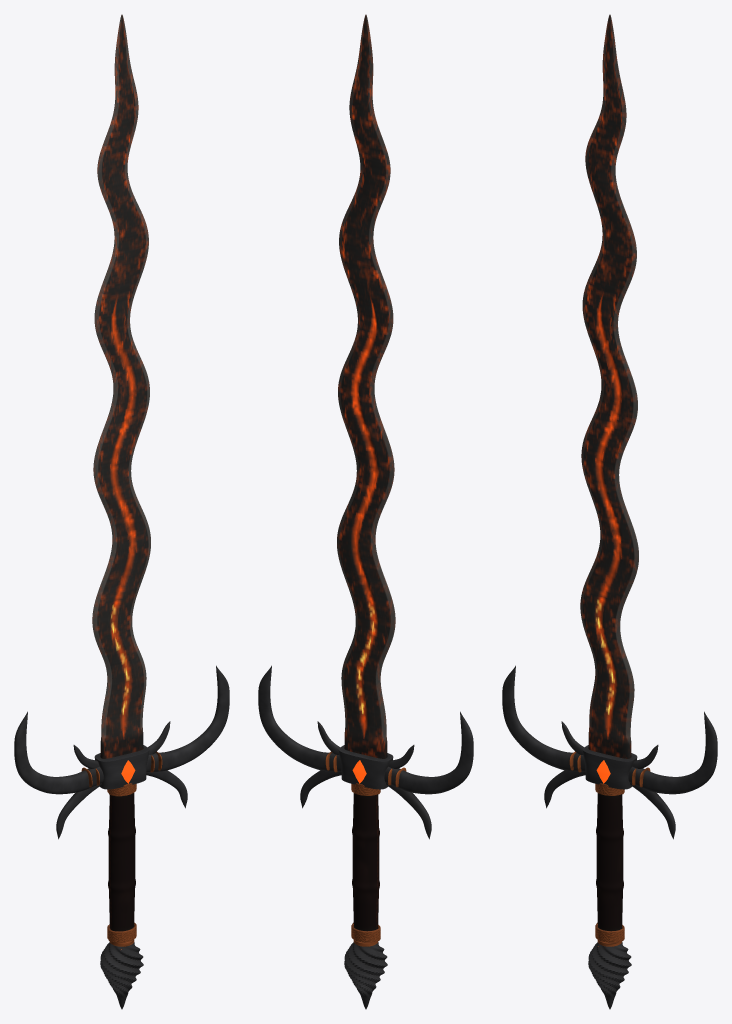
File: sword_fire_hd.glb
3 renders of one model, left to right at view 1: azimuth 30°, elevation 25°; view 2: azimuth 150°, elevation 25°; view 3: azimuth 330°, elevation 25°, orthographic.
Visible parts, largest first — view 1: Weapon; view 2: Weapon; view 3: Weapon.
Boxes of the visible parts, x1,y1,x2,y2 form: Weapon: [14, 14, 229, 1009]; Weapon: [258, 14, 473, 1009]; Weapon: [502, 14, 717, 1009].
Size of the model in its own units: 0.2833 by 1.26 by 0.0499.
Materials: 1 (1 with a texture image).
